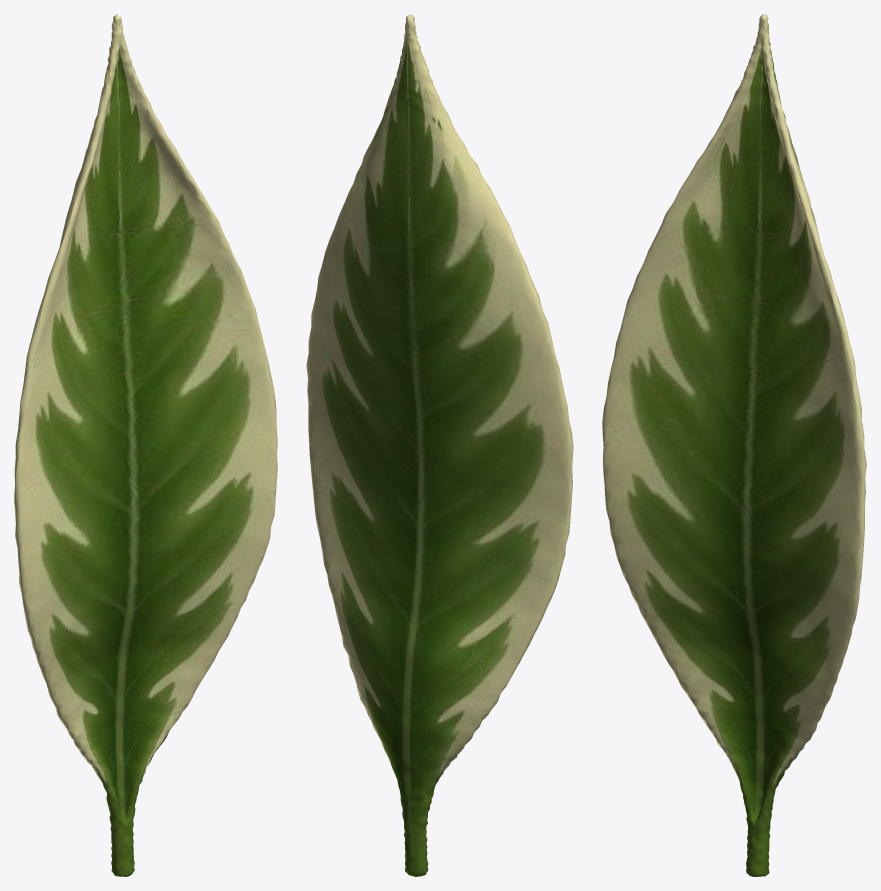
3 renders of one model, left to right at view 1: azimuth 30°, elevation 25°; view 2: azimuth 150°, elevation 25°; view 3: azimuth 330°, elevation 25°, orthographic.
Bounding box in the file's own units: 0.6106 × 1.91 × 0.137.
Materials: 1 (1 with a texture image).
